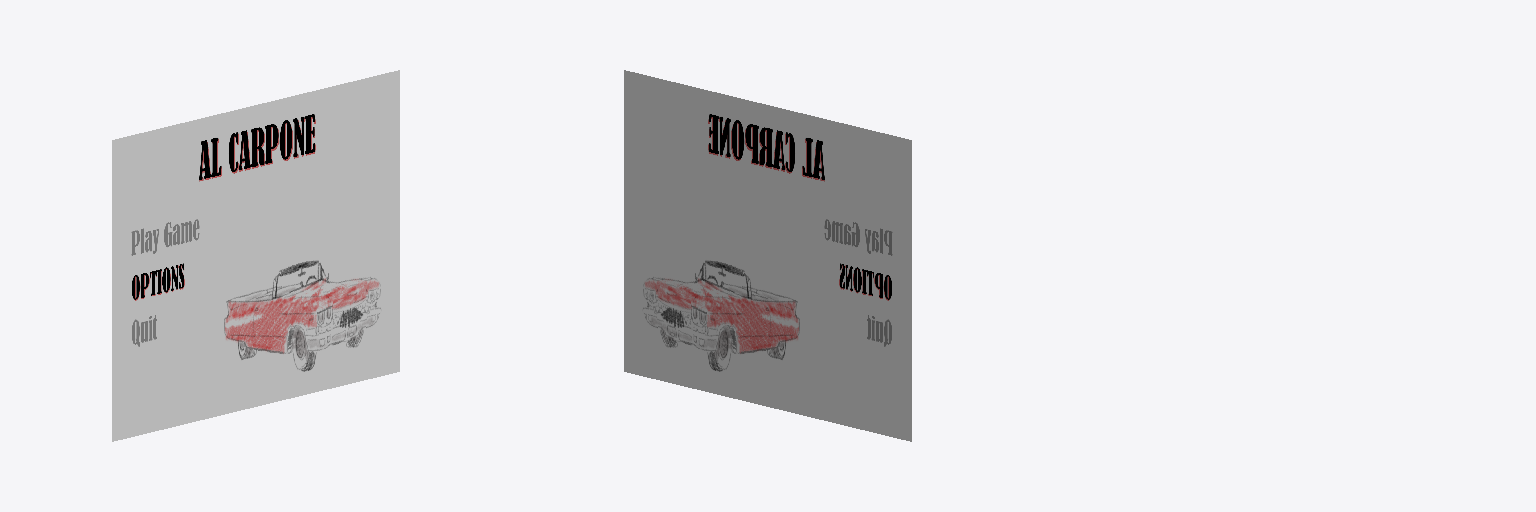
3 renders of one model, left to right at view 1: azimuth 30°, elevation 25°; view 2: azimuth 150°, elevation 25°; view 3: azimuth 270°, elevation 25°, orthographic.
Visible parts, largest first — view 1: Plane; view 2: Plane; view 3: none.
Part boxes in pixels (left/top/right/bottom): Plane: left=112, top=70, right=399, bottom=441; Plane: left=624, top=70, right=911, bottom=441.
Bounding box in the file's own units: 2 × 2 × 0.
1 materials, 1 textured.